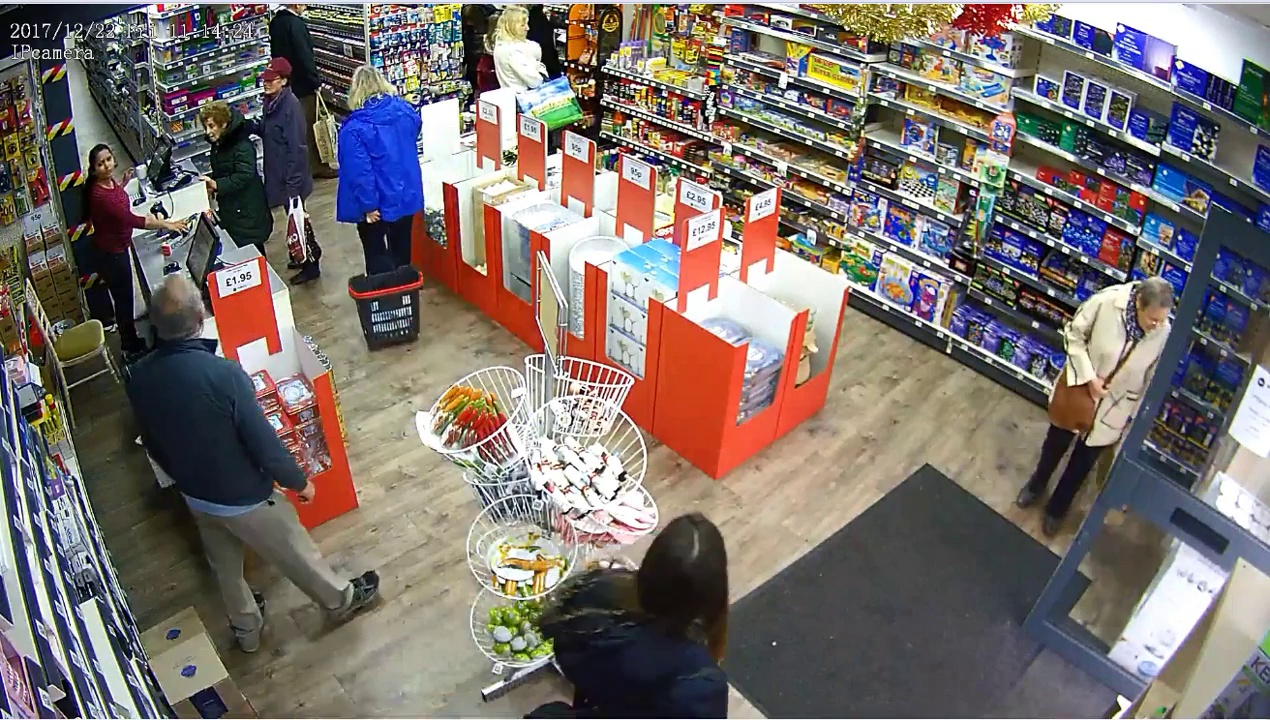face: (200, 111, 222, 141), (91, 151, 117, 175), (261, 75, 283, 101)
